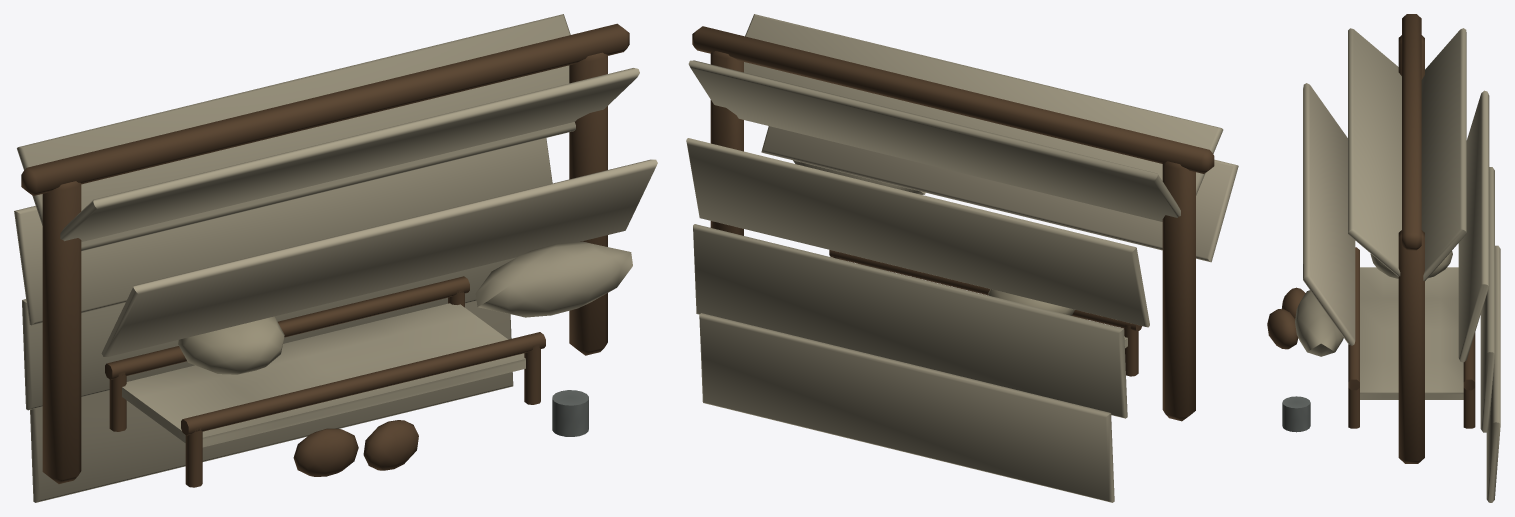
File: bunk_cots_b.glb
The picture shows the model from 3 angles, left to right: view 1: azimuth 30°, elevation 25°; view 2: azimuth 150°, elevation 25°; view 3: azimuth 270°, elevation 25°; orthographic projection. The views are drawn at different scales.
Visible parts, largest first — view 1: Surface; view 2: Surface; view 3: Surface.
Boxes of the visible parts, <box> form: Surface: <box>14,14,657,502</box>; Surface: <box>686,14,1238,502</box>; Surface: <box>1267,14,1500,502</box>.
Size of the model in its own units: 3.2 by 1.95 by 1.42.
